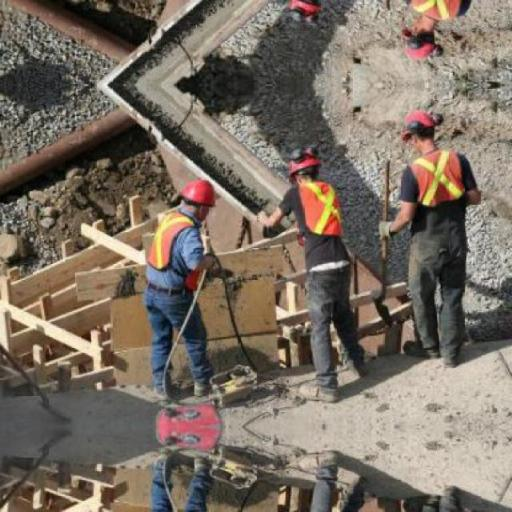helmet: (392, 104, 446, 146), (176, 175, 222, 212), (282, 147, 326, 180)
vest: (394, 146, 481, 227), (140, 206, 207, 292), (290, 179, 352, 248), (386, 0, 479, 34)
